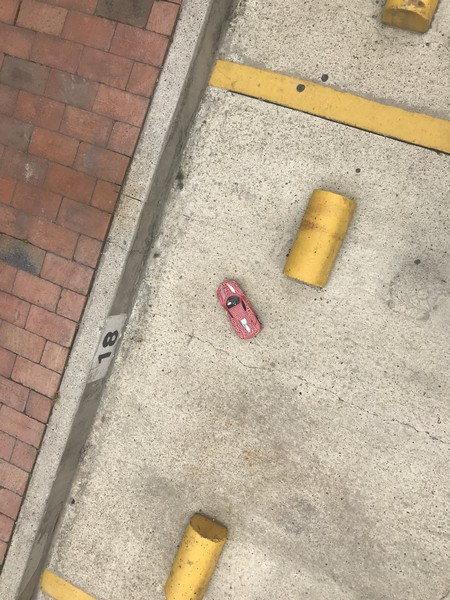RC: (216, 278, 264, 342)
